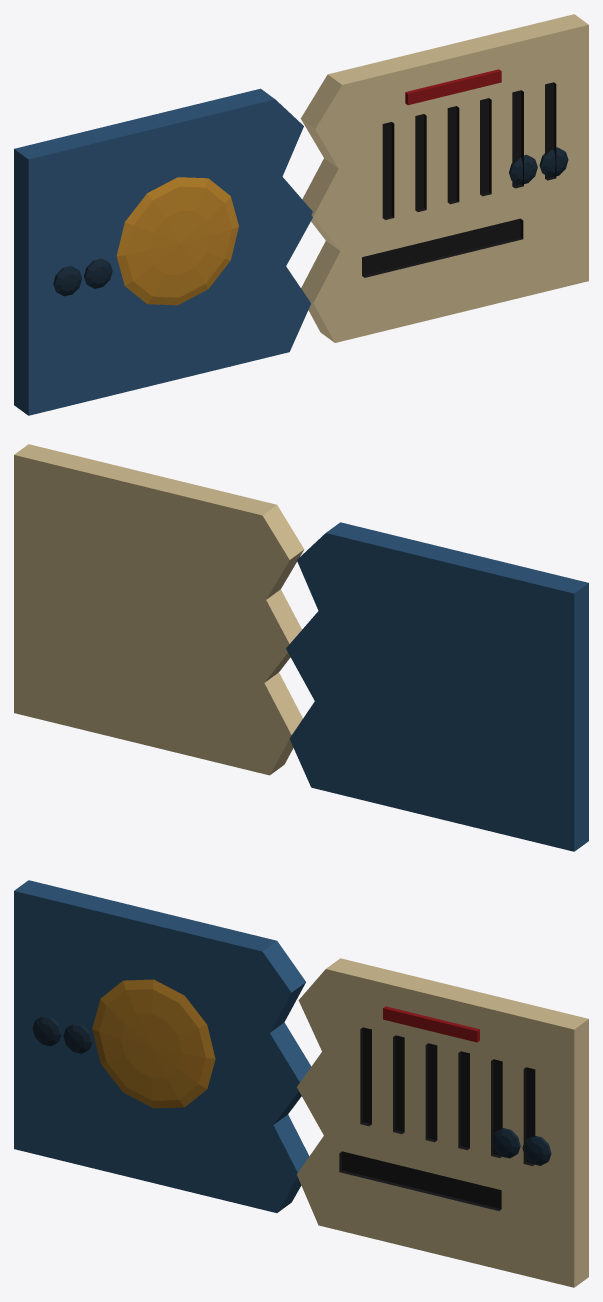
Rendered from park_01.obj.
The picture shows the model from 3 angles, top to bottom: view 1: azimuth 30°, elevation 25°; view 2: azimuth 150°, elevation 25°; view 3: azimuth 330°, elevation 25°; orthographic projection.
Visible parts, largest first — view 1: TicketLeft, TicketRight, StarSeal, Serial, GhostCount, Barcode2, Barcode0, Barcode3, Barcode1, Barcode4, Barcode5, Punch-1.35 (+3 smaller); view 2: TicketLeft, TicketRight; view 3: TicketLeft, TicketRight, StarSeal, Serial, GhostCount, Barcode2, Barcode1, Barcode0, Barcode3, Barcode5, Barcode4, Punch-1.18 (+3 smaller).
Boxes of the visible parts, left/top/right/bottom form: TicketLeft: left=14, top=88, right=312, bottom=415; TicketRight: left=300, top=14, right=588, bottom=342; StarSeal: left=116, top=177, right=238, bottom=305; Serial: left=362, top=218, right=523, bottom=277; GhostCount: left=405, top=69, right=501, bottom=105; Barcode2: left=447, top=106, right=459, bottom=204; Barcode0: left=382, top=122, right=394, bottom=219; Barcode3: left=480, top=98, right=491, bottom=196; Barcode1: left=415, top=114, right=426, bottom=211; Barcode4: left=512, top=90, right=523, bottom=188; Barcode5: left=545, top=82, right=556, bottom=180; Punch-1.35: left=53, top=266, right=81, bottom=296; TicketLeft: left=286, top=522, right=588, bottom=851; TicketRight: left=14, top=444, right=304, bottom=775; TicketLeft: left=14, top=880, right=311, bottom=1212; TicketRight: left=297, top=958, right=588, bottom=1287; StarSeal: left=92, top=979, right=215, bottom=1108; Serial: left=339, top=1151, right=501, bottom=1210; GhostCount: left=383, top=1006, right=479, bottom=1042; Barcode2: left=425, top=1043, right=437, bottom=1142; Barcode1: left=393, top=1035, right=404, bottom=1134; Barcode0: left=360, top=1027, right=371, bottom=1126; Barcode3: left=458, top=1051, right=469, bottom=1150; Barcode5: left=523, top=1067, right=535, bottom=1165; Barcode4: left=491, top=1059, right=502, bottom=1157; Punch-1.18: left=63, top=1023, right=92, bottom=1053.
Size of the model in its own units: 3.1 by 1.36 by 0.215.
